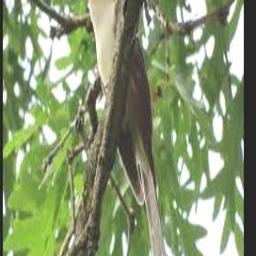Cuckoo: (72, 0, 170, 256)
